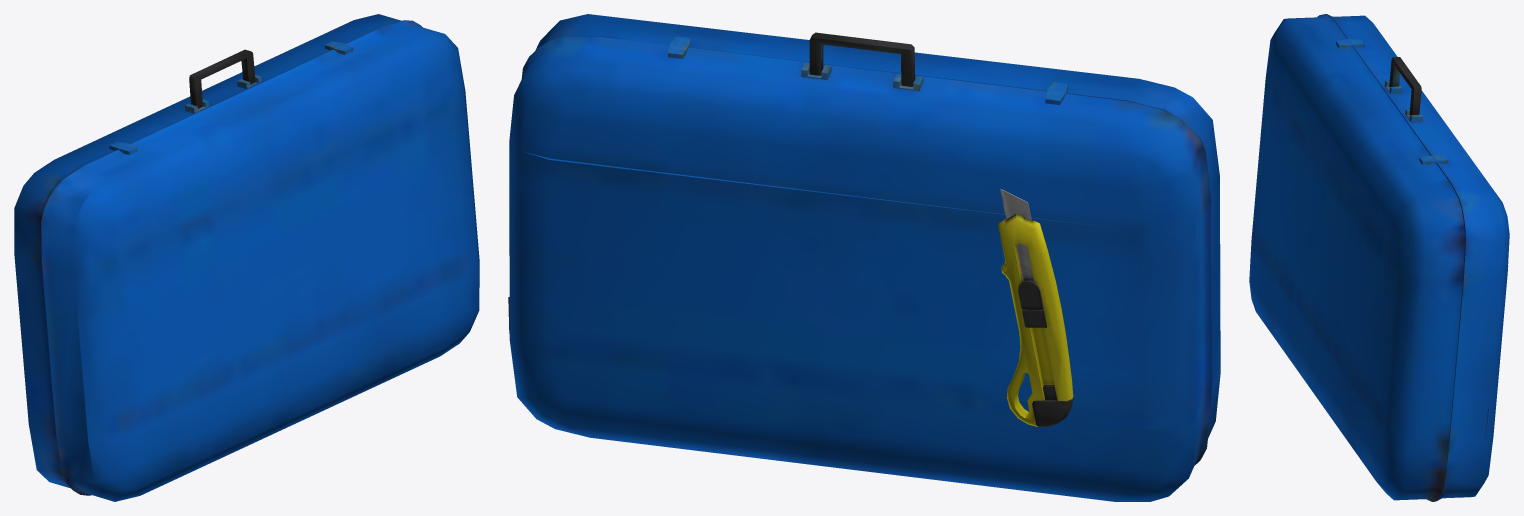
The model's file is suitcase A.fbx.
3 views of the same model, side by side, from view 1: azimuth 30°, elevation 25°; view 2: azimuth 150°, elevation 25°; view 3: azimuth 270°, elevation 25° (orthographic). The views are drawn at different scales.
Visible parts, largest first — view 1: Suitcase_A_top, Suitcase_A_Bottom; view 2: Suitcase_A_Bottom, Suitcase_A_top, cutter; view 3: Suitcase_A_top, Suitcase_A_Bottom.
Boxes of the visible parts, box(x1,y1,x2,y2) form: Suitcase_A_top: box(41, 20, 479, 501); Suitcase_A_Bottom: box(14, 14, 420, 488); Suitcase_A_Bottom: box(508, 32, 1211, 501); Suitcase_A_top: box(535, 14, 1220, 456); cutter: box(998, 188, 1073, 426); Suitcase_A_top: box(1249, 14, 1465, 501); Suitcase_A_Bottom: box(1326, 14, 1509, 501).
Bounding box in the file's own units: 125 × 84.66 × 59.15.
